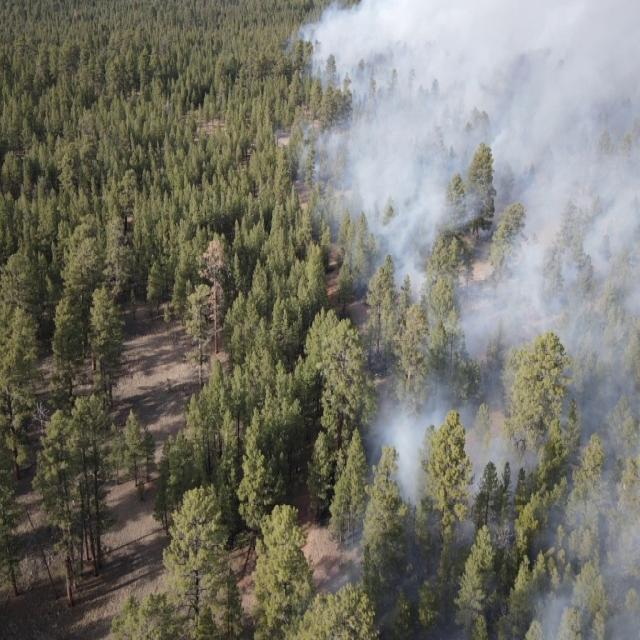smoke: (290, 1, 640, 317), (348, 315, 640, 640)
